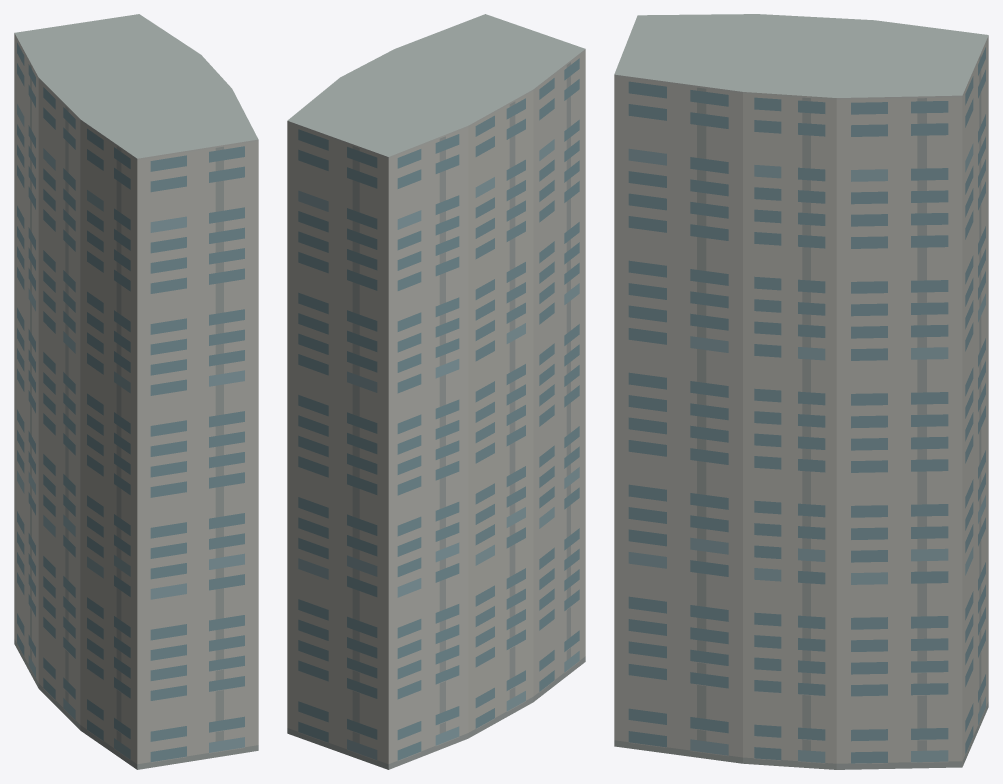
The model's file is residential-889123e6-f715-4b16-84ad-24271a98decc.glb.
3 views of the same model, side by side, from view 1: azimuth 30°, elevation 25°; view 2: azimuth 150°, elevation 25°; view 3: azimuth 270°, elevation 25° (orthographic). The views are drawn at different scales.
Visible parts, largest first — view 1: residential-889123e6-f715-4b16-84ad-24271a98decc.tmp; view 2: residential-889123e6-f715-4b16-84ad-24271a98decc.tmp; view 3: residential-889123e6-f715-4b16-84ad-24271a98decc.tmp.
Boxes of the visible parts, left/top/right/bottom form: residential-889123e6-f715-4b16-84ad-24271a98decc.tmp: left=14, top=14, right=258, bottom=769; residential-889123e6-f715-4b16-84ad-24271a98decc.tmp: left=287, top=14, right=585, bottom=769; residential-889123e6-f715-4b16-84ad-24271a98decc.tmp: left=614, top=14, right=988, bottom=769.
Bounding box in the file's own units: 24.44 × 91 × 45.99.
